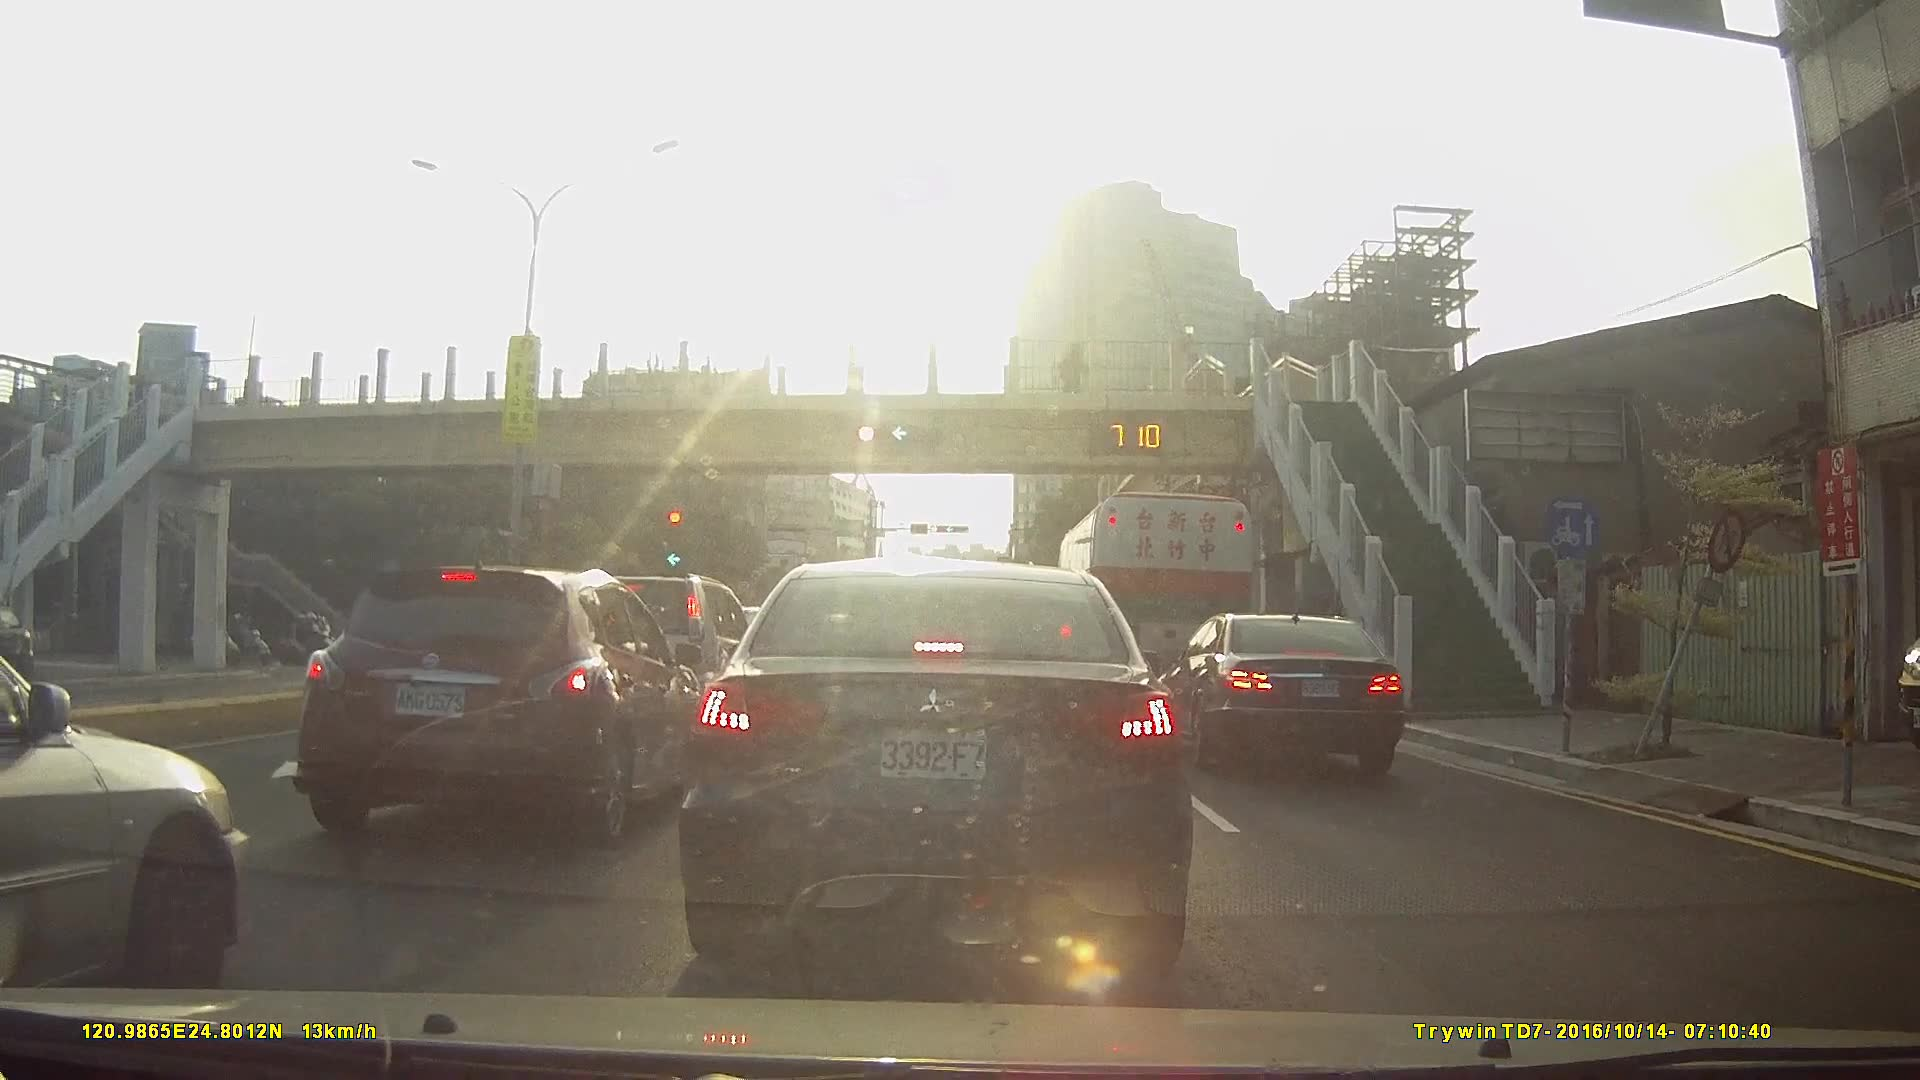pedestrian: (1061, 344, 1089, 400)
rider: (276, 611, 342, 667), (222, 613, 277, 667)
vehicle: (673, 555, 1191, 970), (292, 561, 708, 849), (0, 652, 249, 1004), (1058, 489, 1257, 723), (1147, 610, 1404, 779)
